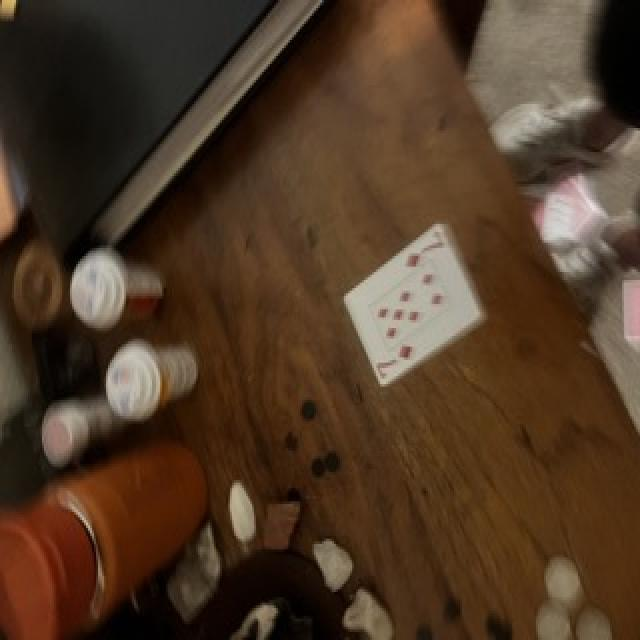7 of diamonds: (345, 223, 484, 387)
